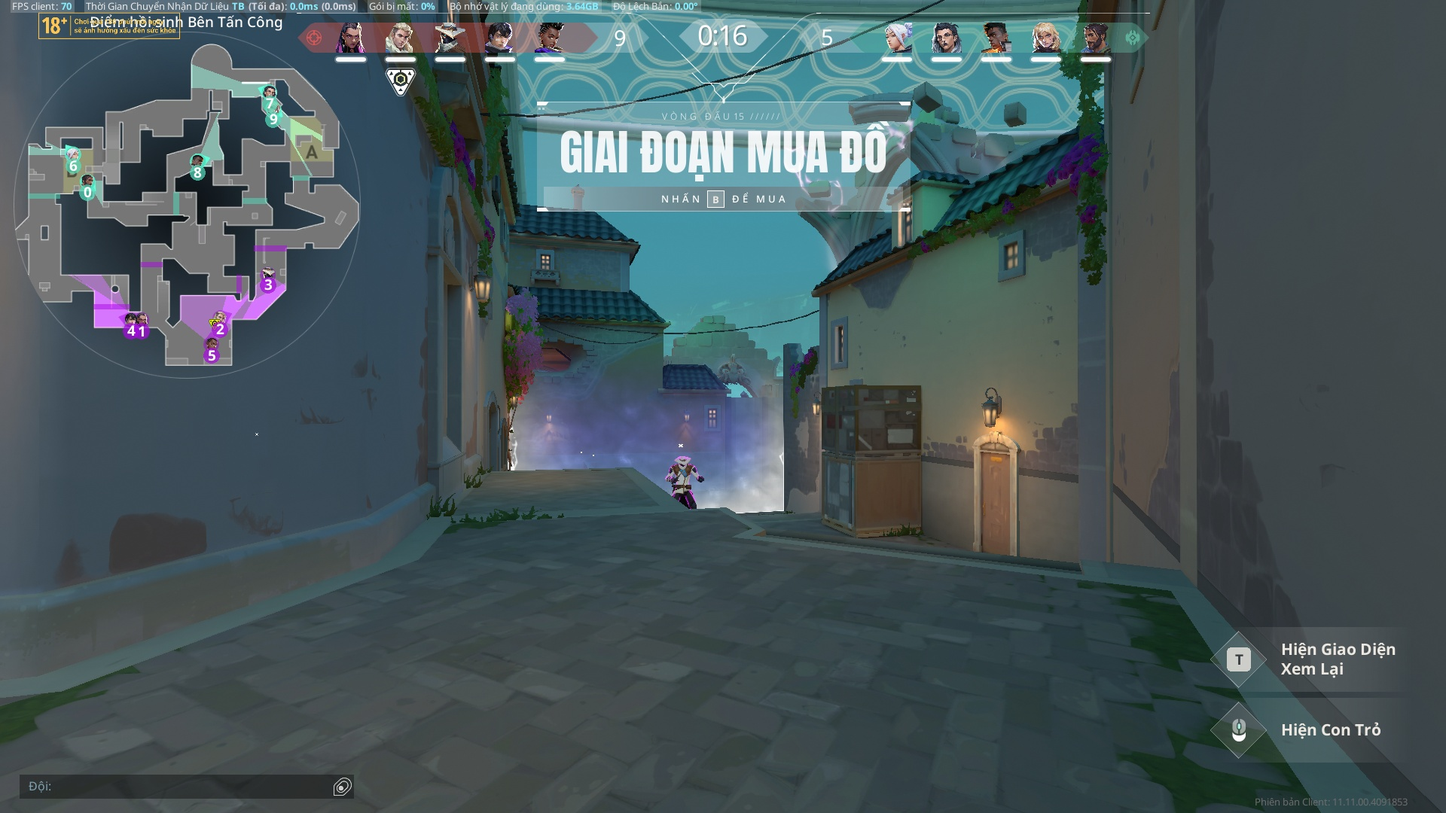body: (669, 464, 695, 489)
head: (677, 455, 688, 465)
